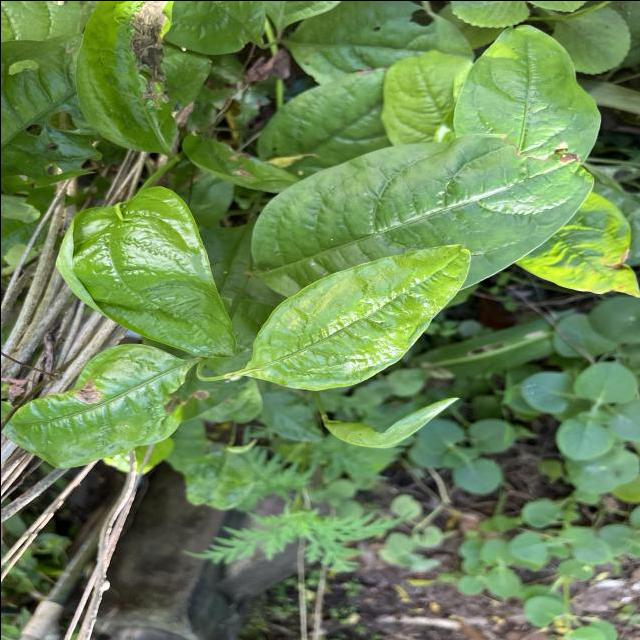Plumbago indica: (246, 128, 599, 302), (246, 238, 474, 398), (53, 184, 236, 366), (0, 339, 188, 470)
